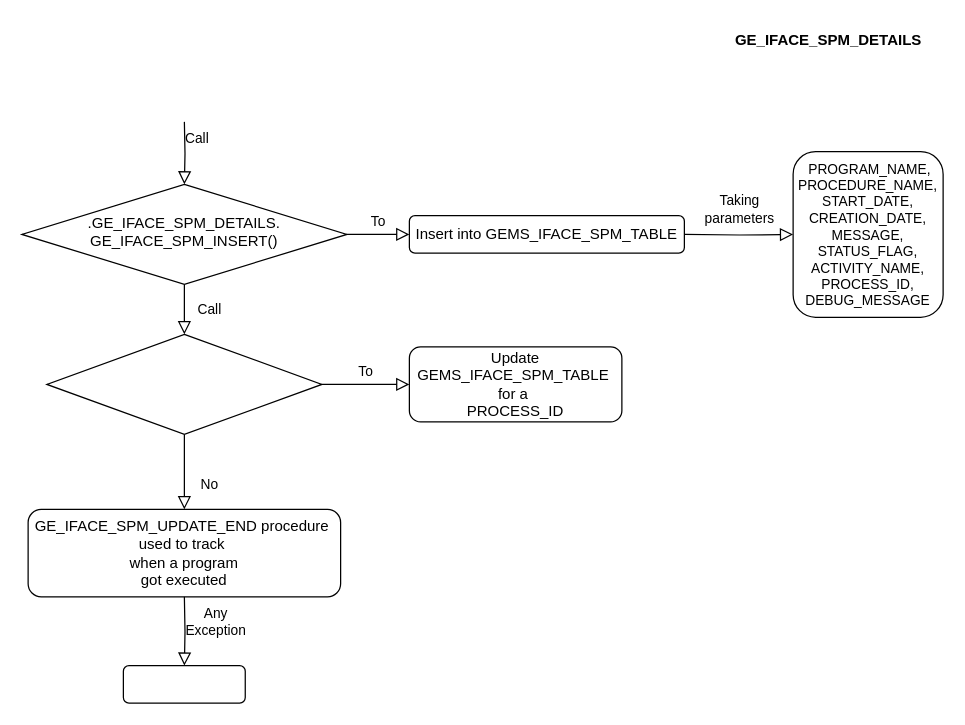
This 965x725 diagram has some shape labels left out. The box of each missing label's shape, as (x1, y1, x2, y2) in pixels:
Error is thrown: (122, 664, 245, 703)
GE_IFACE_SPM_UPDATE procedure: (46, 333, 322, 434)
